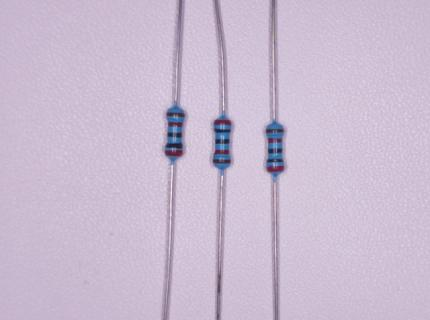Black band: (165, 143, 183, 148), (168, 132, 182, 138), (215, 139, 230, 144), (268, 148, 282, 153), (215, 129, 231, 133), (267, 159, 284, 162)
Brown band: (213, 159, 231, 164), (167, 113, 185, 117), (266, 129, 284, 133)
Red band: (165, 150, 183, 156), (267, 166, 284, 172), (168, 122, 183, 128), (215, 120, 231, 125), (214, 150, 229, 155), (268, 138, 282, 143)
